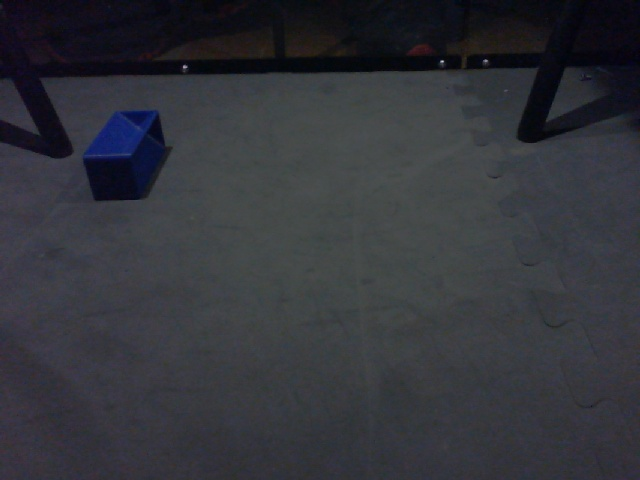BlueSample: (80, 107, 167, 202)
